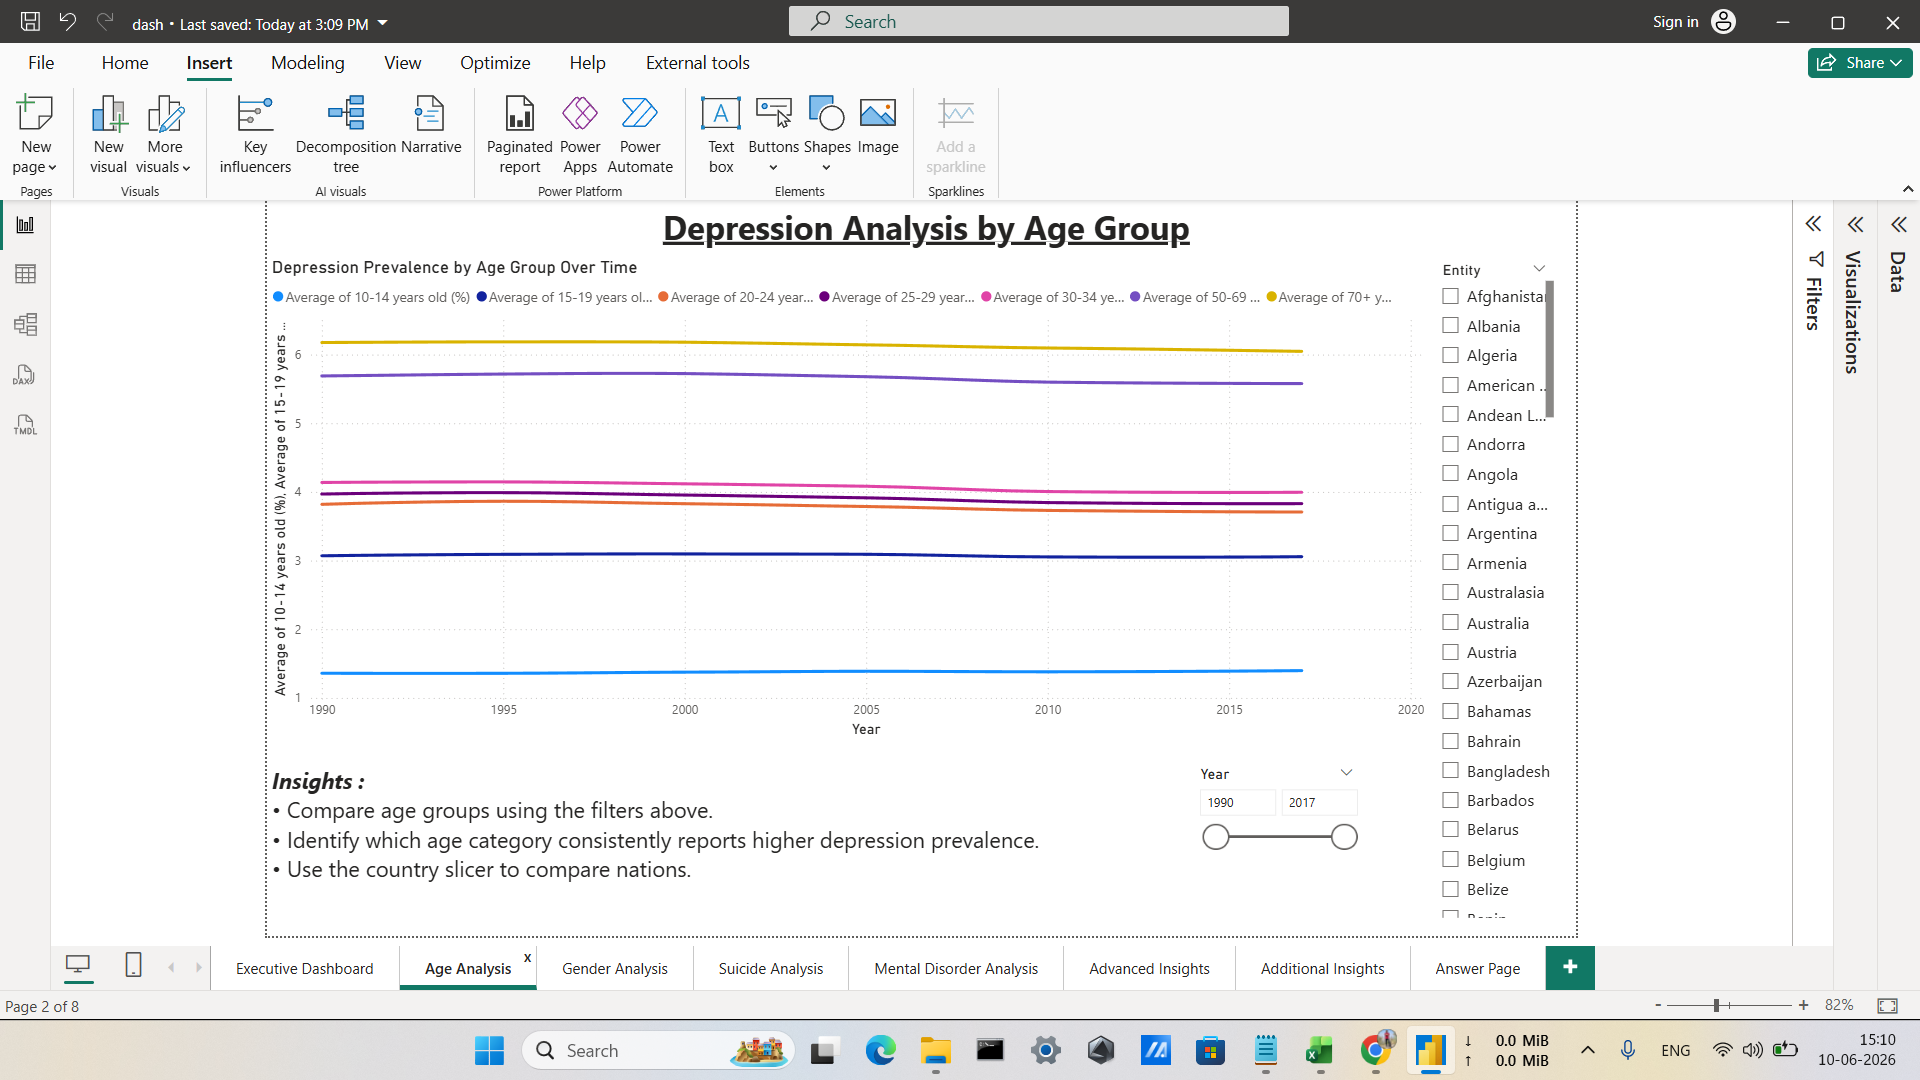

The dashboard page shown, as its layout file describes it:
{"tool":"powerbi","page":{"name":"Age Analysis","canvas":[1280,720],"ordinal":1},"visuals":[{"type":"textbox","box":[9.8,0,1270.5,55],"z":0},{"type":"slicer","fields":{"Values":["prevalence-of-depression-by-age.Year"]},"box":[900.4,547.4,175.2,159.9],"z":1000},{"type":"slicer","fields":{"Values":["prevalence-of-depression-by-age.Entity"]},"box":[1137,55,126.6,652.3],"z":2000},{"type":"lineChart","title":"Depression Prevalence by Age Group Over Time","fields":{"Category":["prevalence-of-depression-by-age.Year"],"Y":["Avg(prevalence-of-depression-by-age.10-14 years old (%))","Avg(prevalence-of-depression-by-age.15-19 years old (%))","Avg(prevalence-of-depression-by-age.20-24 years old (%))","Avg(prevalence-of-depression-by-age.25-29 years old (%))","Avg(prevalence-of-depression-by-age.30-34 years old (%))","Avg(prevalence-of-depression-by-age.50-69 years old (%))","Avg(prevalence-of-depression-by-age.70+ years old (%))"]},"box":[0,55,1137,475.8],"z":3000},{"type":"textbox","box":[0,547.4,799.4,149.6],"z":4000}]}

Visuals, with their boxes on the page's 1280x720 design canvas (x1, y1, x2, y2). These are canvas units, not pixel positions in the 1920x1080 screenshot, which may show the page scaled, cropped or inside an application window:
textbox: 10/0/1280/55
slicer - prevalence-of-depression-by-age.Year: 900/547/1076/707
slicer - prevalence-of-depression-by-age.Entity: 1137/55/1264/707
"Depression Prevalence by Age Group Over Time" lineChart: 0/55/1137/531
textbox: 0/547/799/697
